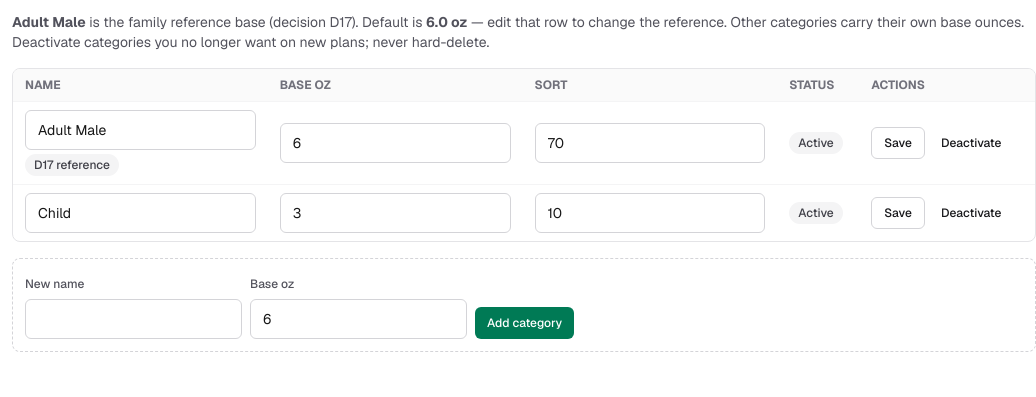
Scenario: PortionCategoriesPanel › rejects base oz ≤ 0 on create
The image size is (1036, 397).
Type "Teen" into the field with test id "portion-new-name".
click(134, 319); type("Teen")  # box [25, 299, 242, 339]
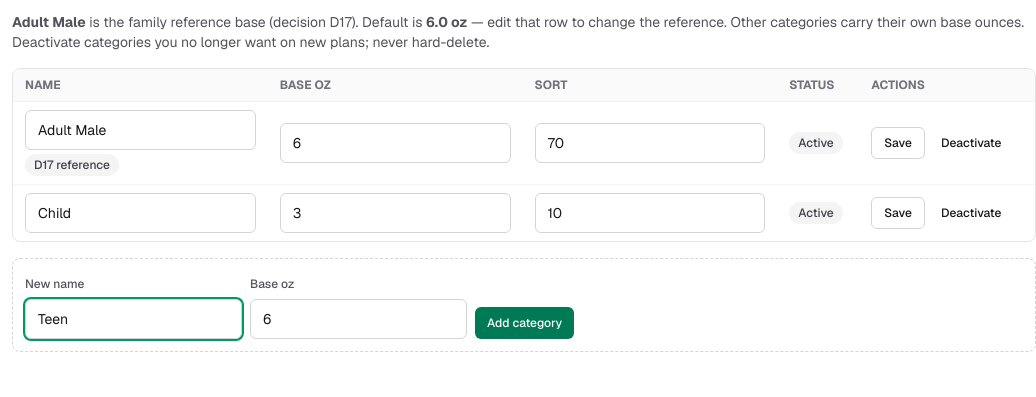
Replace the text in the number field with test id "portion-new-base-oz" with "-2" at (358, 319), box [250, 299, 467, 339]
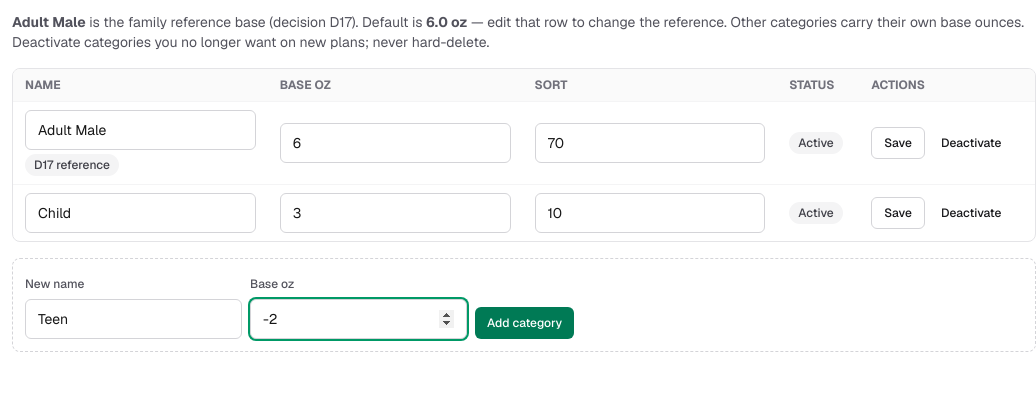
Click the button "Add category".
click(525, 323)  # box [475, 307, 574, 339]
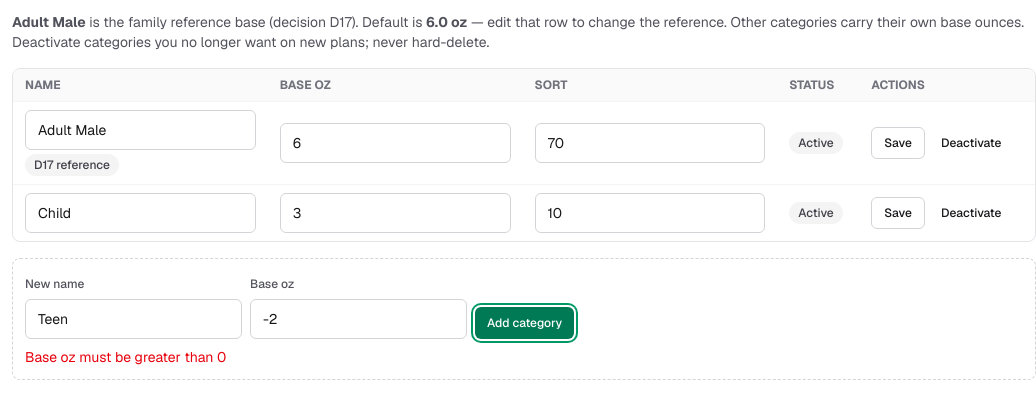
Result: the message with test id "portion-create-error" shows "greater than 0" at [25, 348, 226, 366]
